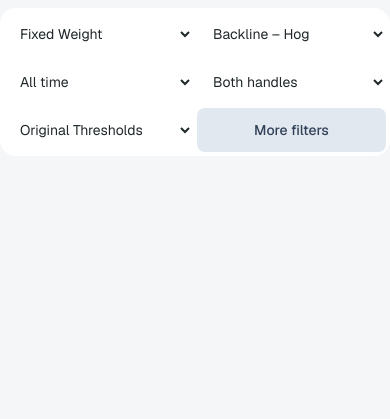
Test: HistoryFilterBar — Compare: Custom › disables Apply for an invalid On Target value 0
Select "Compare: Custom…" in the dropdown named "Threshold Comparison Mode" at (98, 130), box [4,108,193,152]
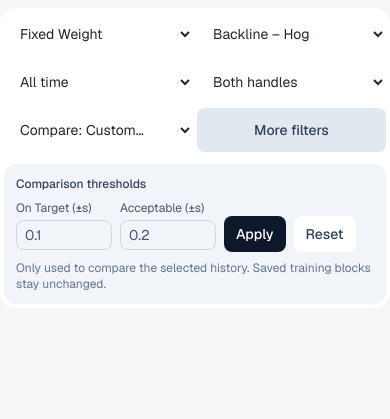
Replace the text in the number field named "Custom On Target threshold" with "0" at (64, 235), box [16,220,112,250]
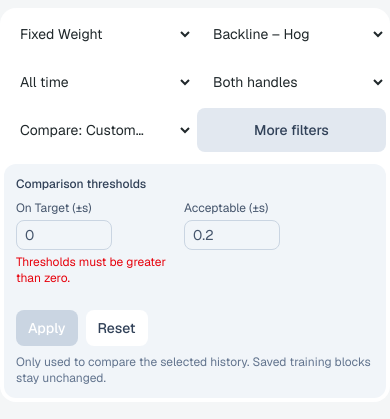
Result: the button "Apply" is disabled at [16,310,78,346]
